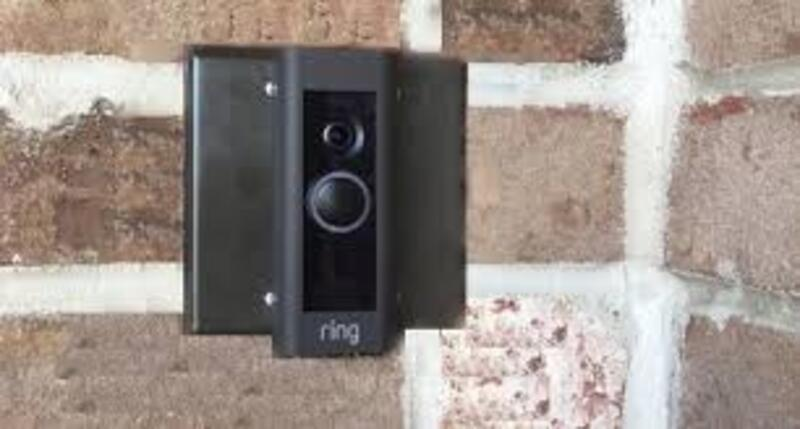doorbell: (276, 39, 391, 362)
